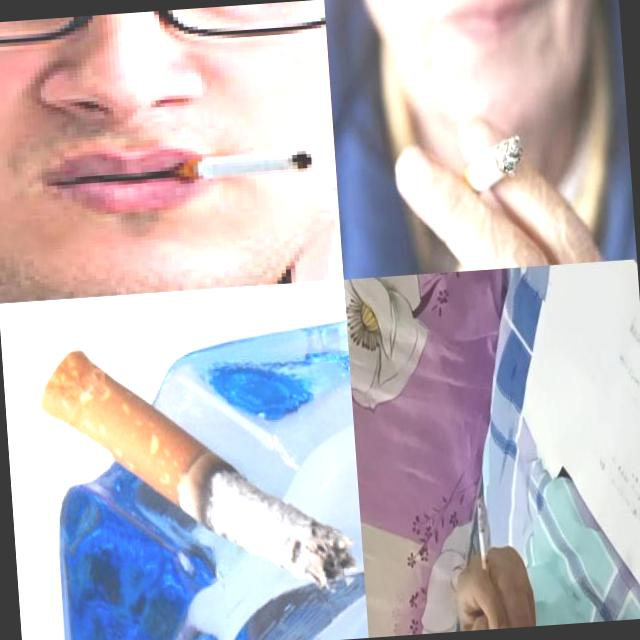cigarette: (34, 328, 357, 606), (450, 132, 526, 204), (182, 142, 322, 180), (474, 497, 492, 595)
